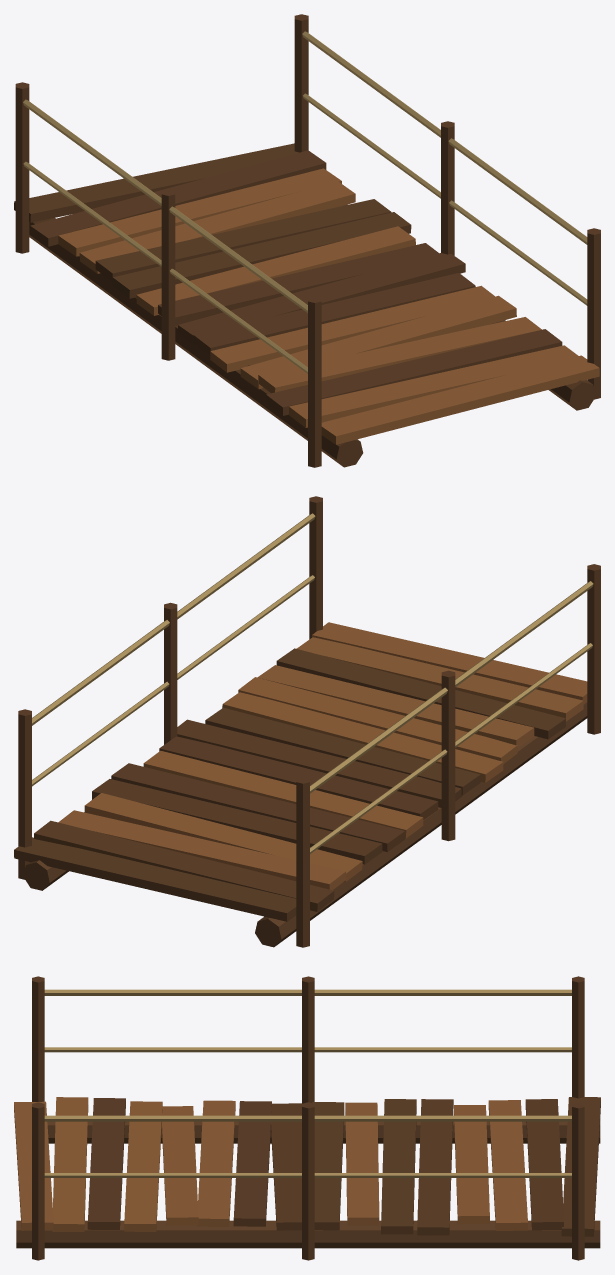
Rendered from mine_bridge.glb.
3 renders of one model, top to bottom at view 1: azimuth 30°, elevation 25°; view 2: azimuth 150°, elevation 25°; view 3: azimuth 270°, elevation 25°, orthographic. The views are drawn at different scales.
Visible parts, largest first — view 1: mine_bridge; view 2: mine_bridge; view 3: mine_bridge.
Part boxes in pixels (x1,y1,x2,y2): mine_bridge: (14,14,600,467); mine_bridge: (14,496,600,947); mine_bridge: (14,976,600,1260).
Size of what is drawn, in the model's own units: 2.14 by 1.15 by 4.02.
